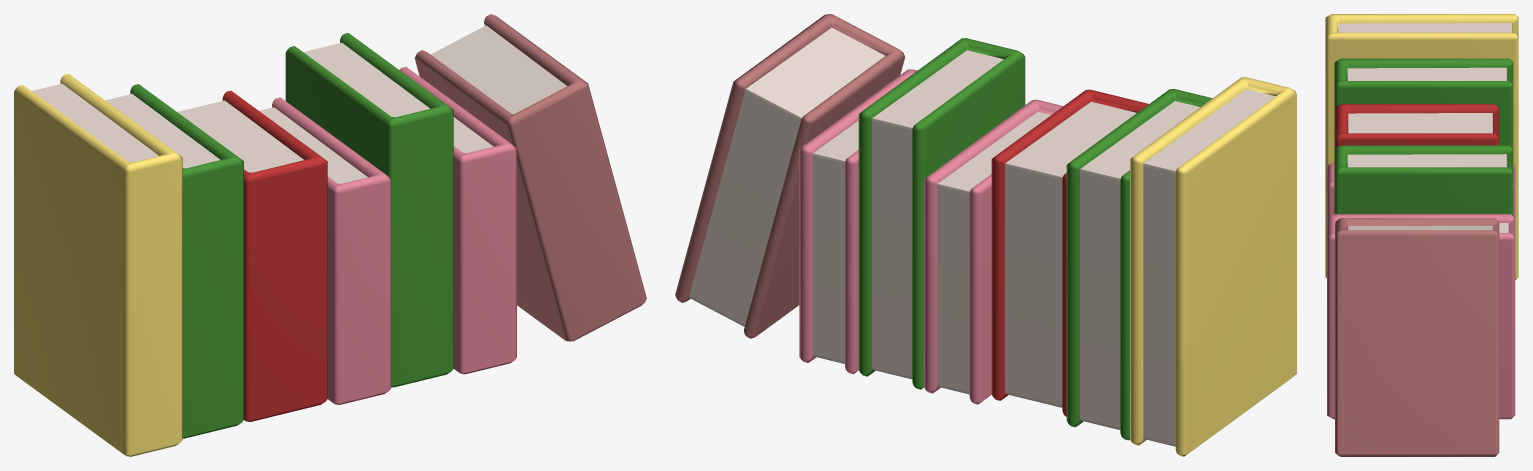
Rendered from Books_20.glb.
The picture shows the model from 3 angles, left to right: view 1: azimuth 30°, elevation 25°; view 2: azimuth 150°, elevation 25°; view 3: azimuth 270°, elevation 25°; orthographic projection. The views are drawn at different scales.
Visible parts, largest first — view 1: Books_20; view 2: Books_20; view 3: Books_20.
Part boxes in pixels (x1,y1,x2,y2): Books_20: [14, 14, 646, 456]; Books_20: [675, 14, 1296, 456]; Books_20: [1325, 14, 1518, 456].
Size of the model in its own units: 0.7544 by 0.3971 by 0.2829.
Materials: 1 (1 with a texture image).
